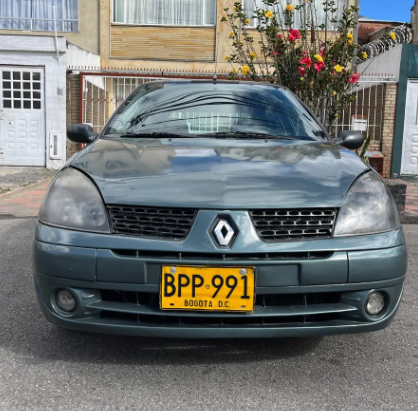placa: (160, 264, 255, 314)
